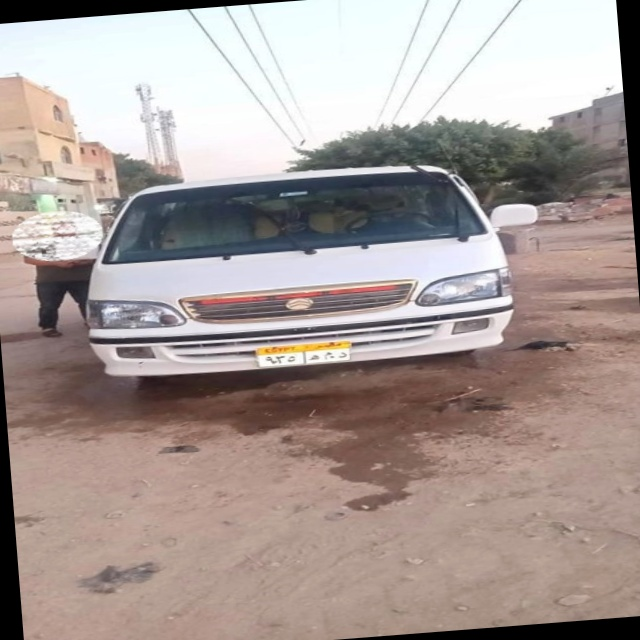License Plate: (254, 339, 354, 370)
